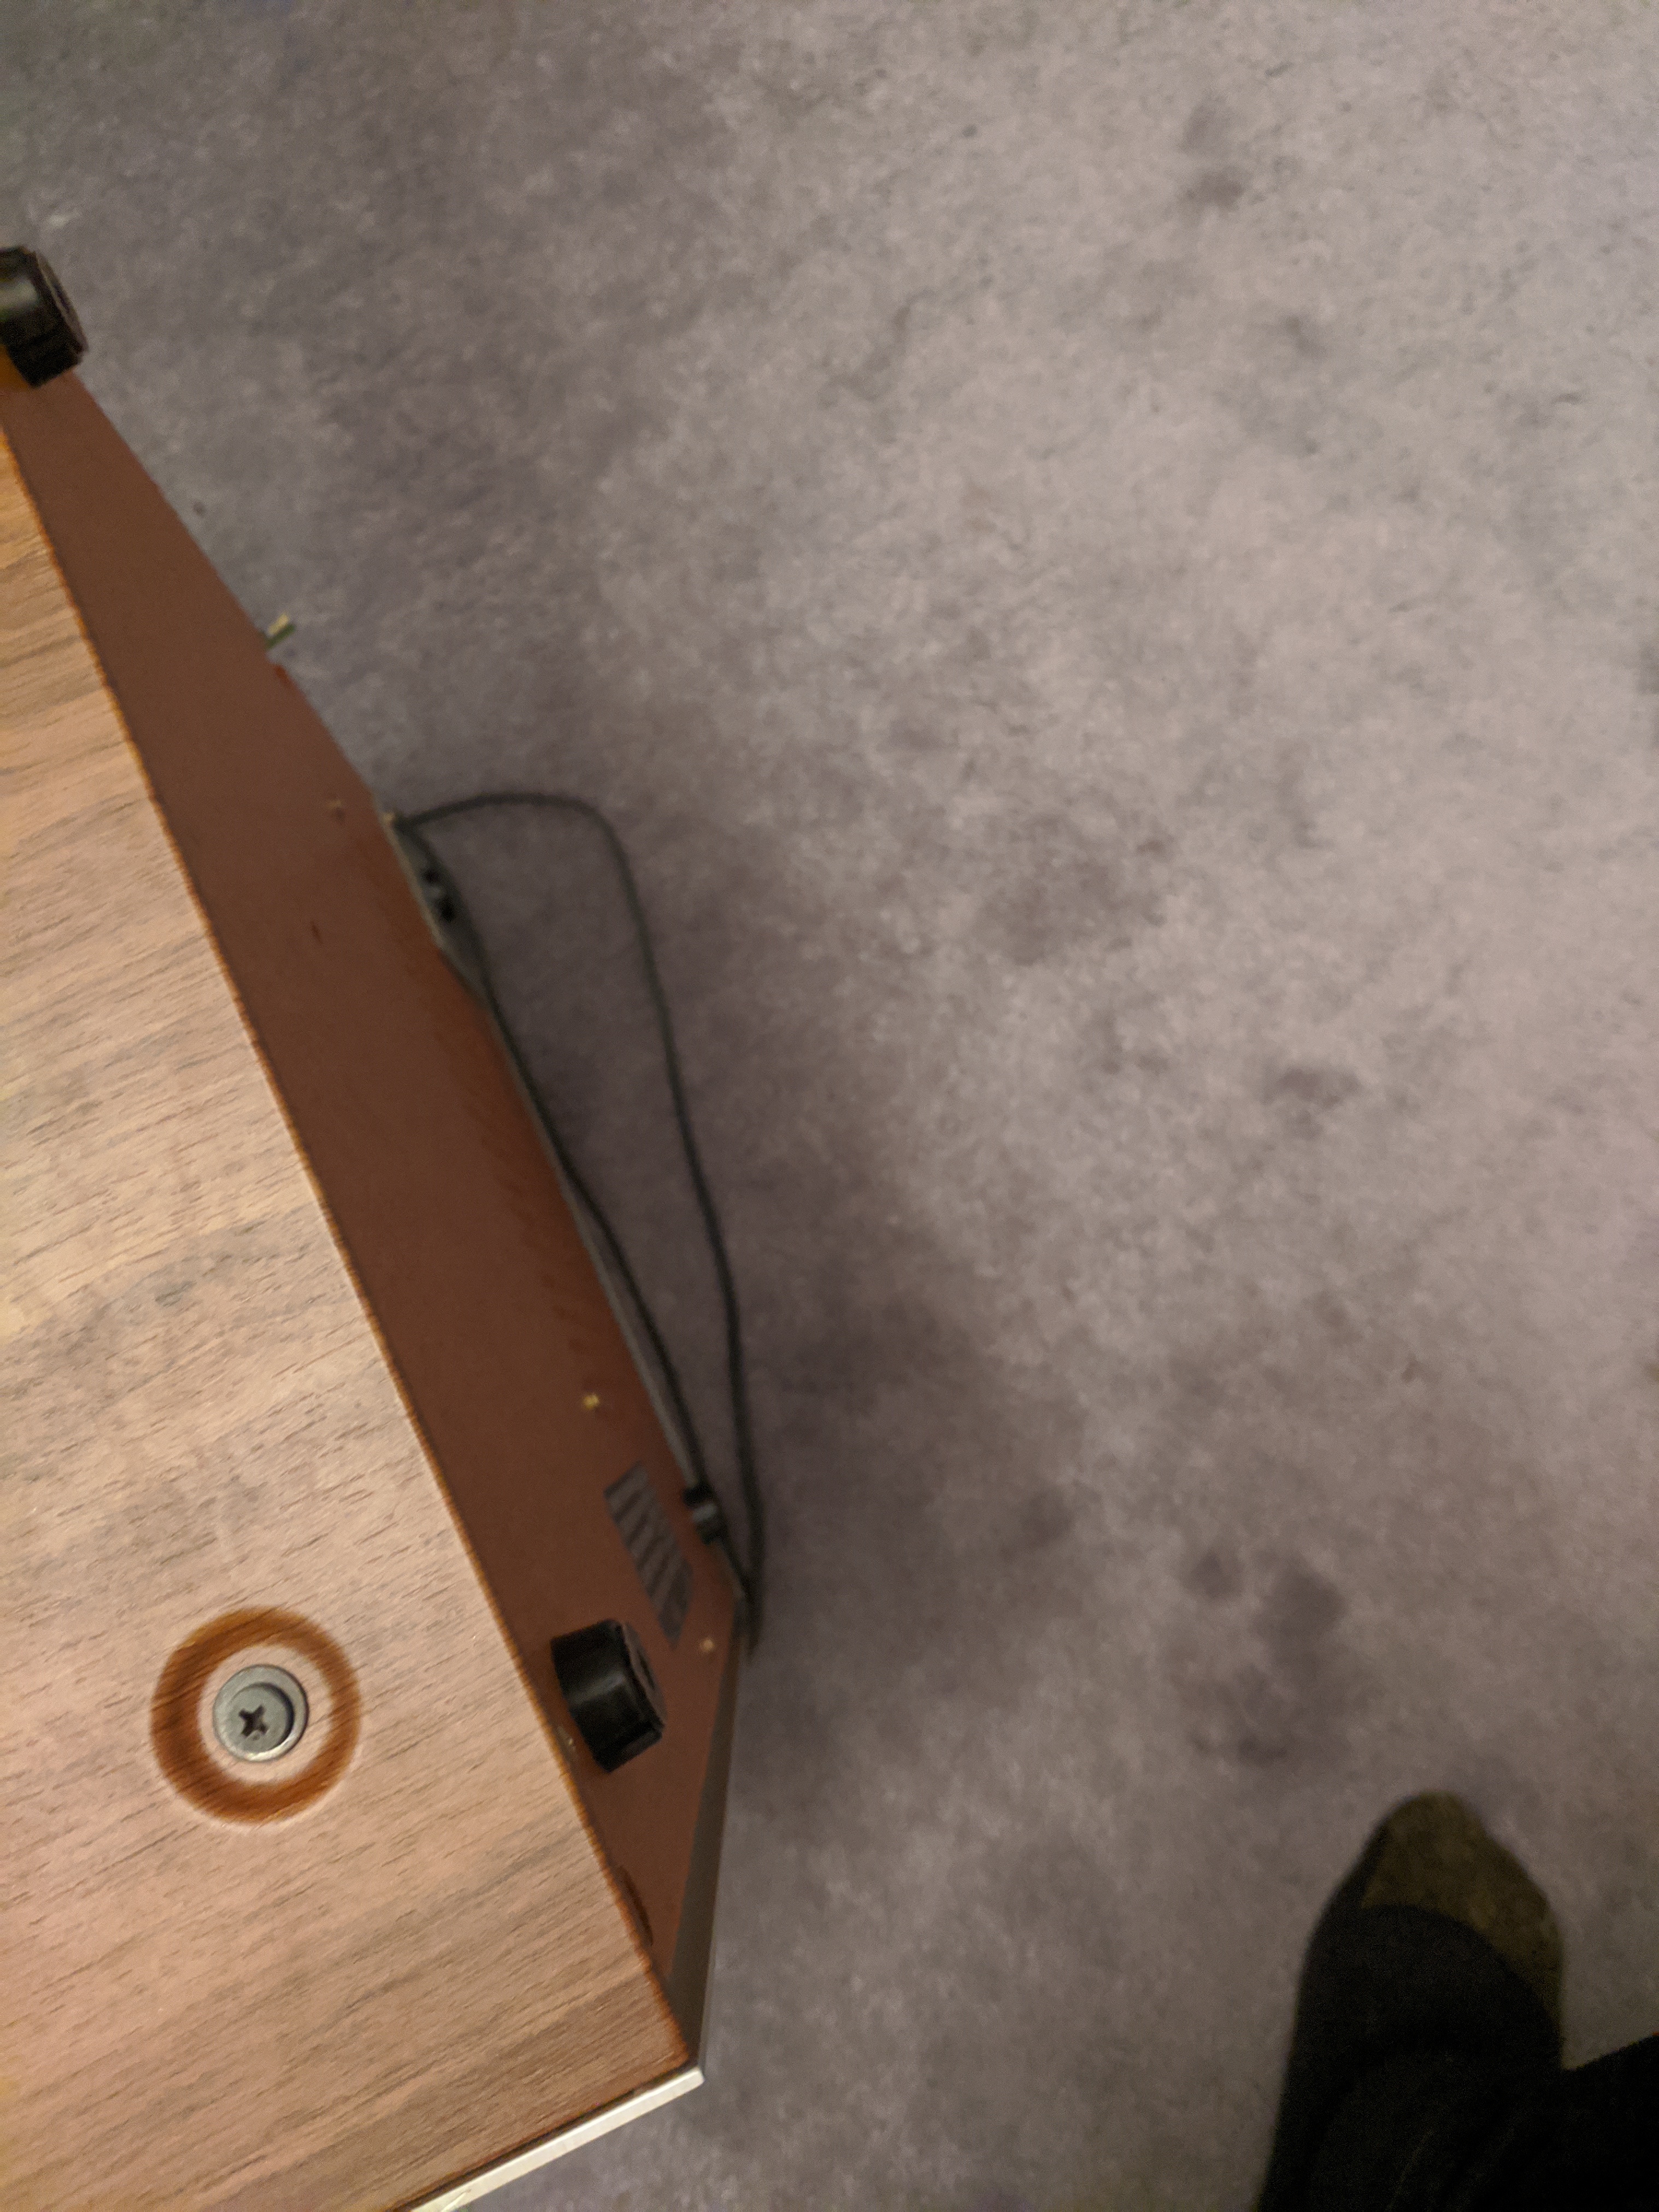cross_recessed_screw: (207, 1676, 295, 1752)
